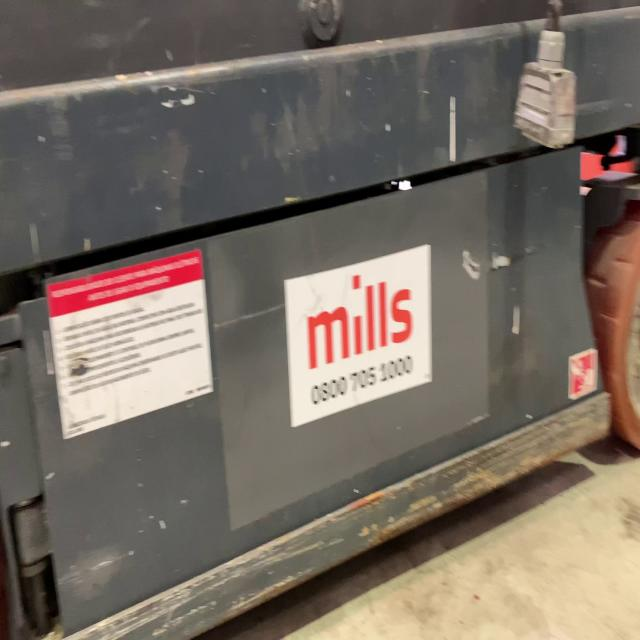Adesivos: (281, 238, 435, 434)
